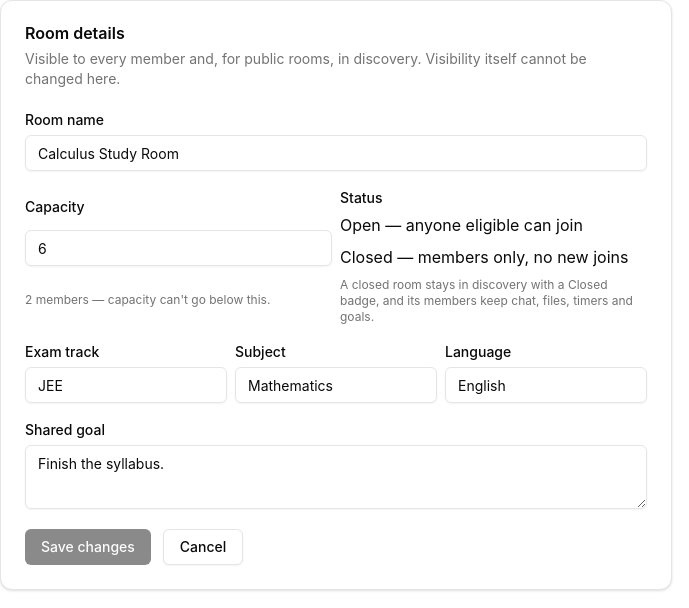
Scenario: RoomSettingsForm › Cancel discards unsaved edits
Replace the text in the field labelled "Room name" with "Something else". click: [336, 153]
box: [25,135,647,171]
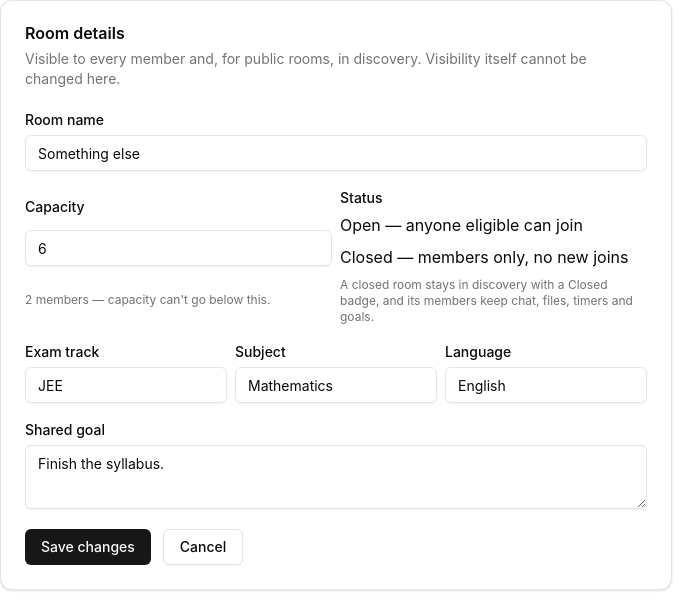
Click the button "Cancel". click: [203, 547]
box: [163,529,243,565]
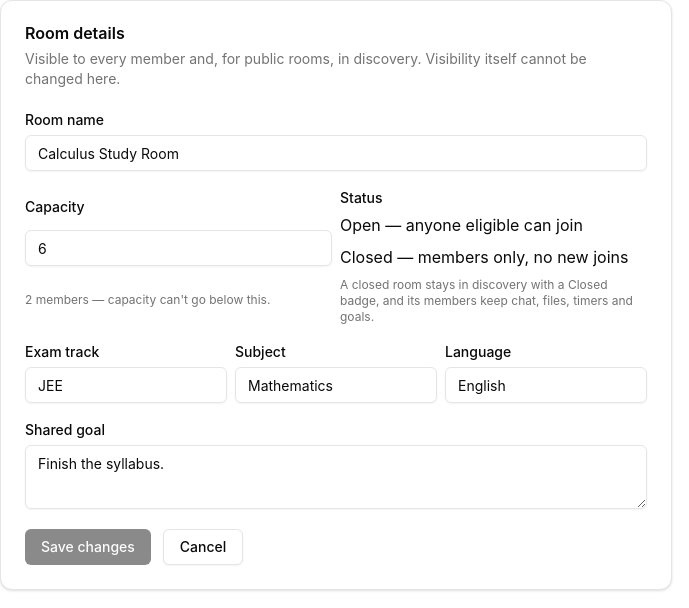
Result: the field labelled "Room name" holds "Calculus Study Room" at [25,135,647,171]
Result: the button "Save changes" is disabled at [25,529,151,565]
